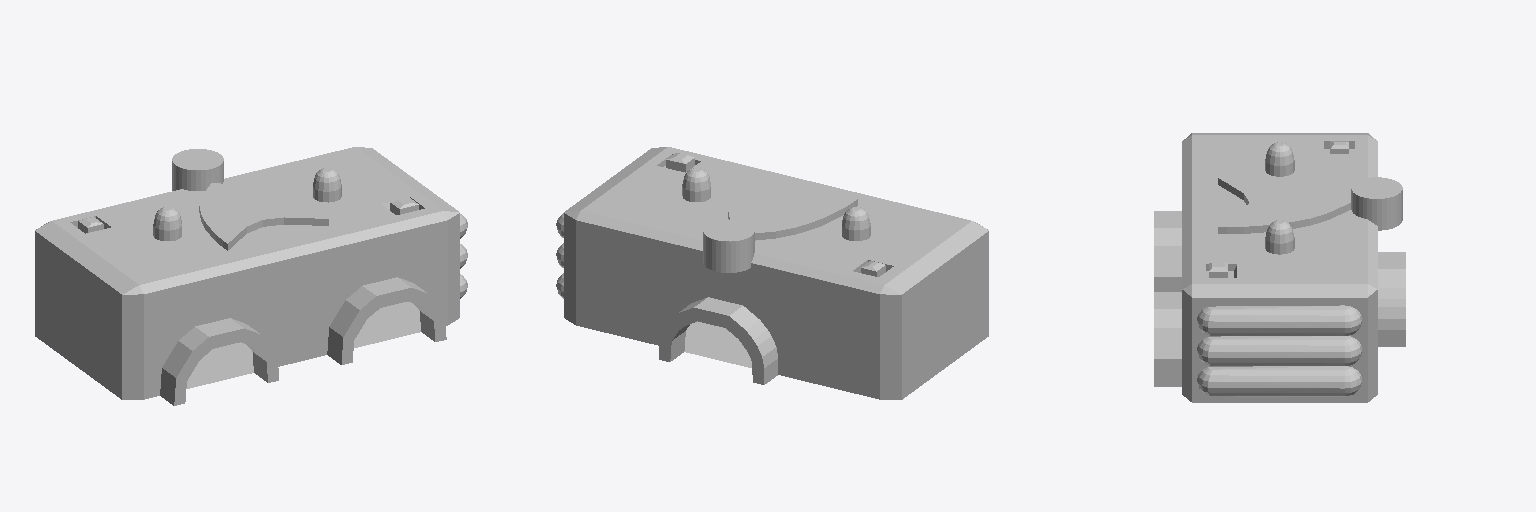
Rendered from NorGate.obj.
3 renders of one model, left to right at view 1: azimuth 30°, elevation 25°; view 2: azimuth 150°, elevation 25°; view 3: azimuth 270°, elevation 25°, orthographic.
Visible parts, largest first — view 1: Gate_OR.014_Cube.020; view 2: Gate_OR.014_Cube.020; view 3: Gate_OR.014_Cube.020.
Part boxes in pixels (x1,y1,x2,y2): Gate_OR.014_Cube.020: (35,147,467,405); Gate_OR.014_Cube.020: (556,147,988,399); Gate_OR.014_Cube.020: (1154,133,1405,402).
Bounding box in the file's own units: 8.34 × 3.09 × 5.13.